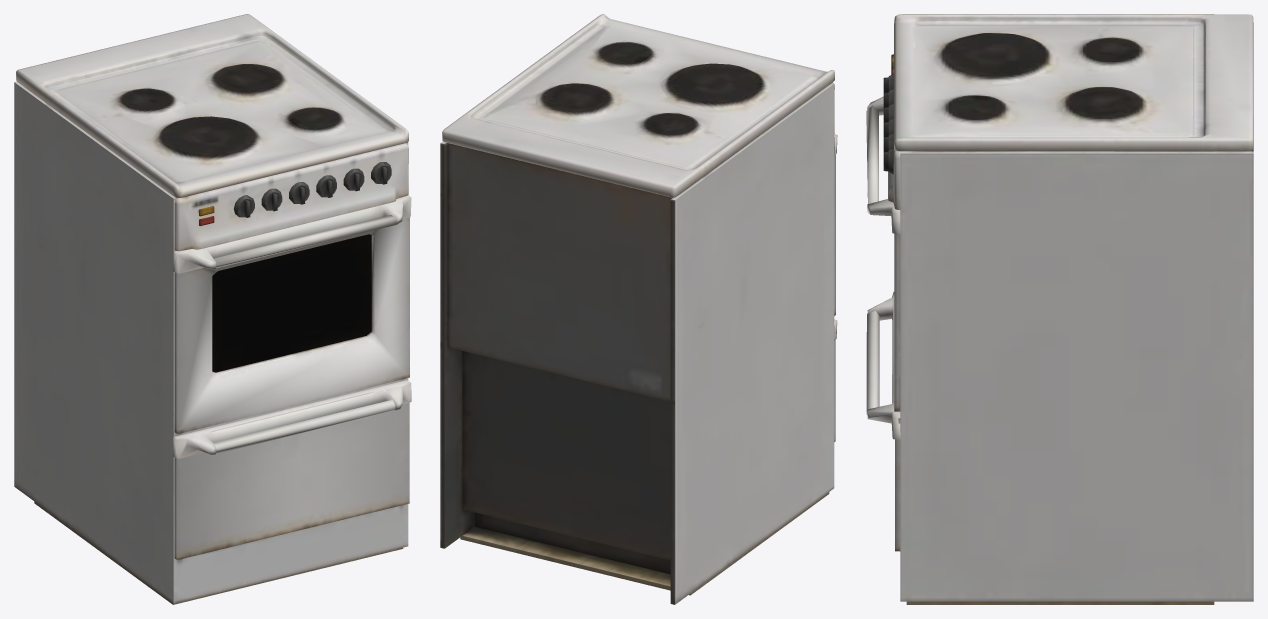
File: electric_stove.55e263bffc.glb
The picture shows the model from 3 angles, left to right: view 1: azimuth 30°, elevation 25°; view 2: azimuth 150°, elevation 25°; view 3: azimuth 270°, elevation 25°; orthographic projection. The views are drawn at different scales.
Visible parts, largest first — view 1: stovetop, door_top, handle_bottom_attachment; view 2: stovetop; view 3: stovetop, handle_bottom_attachment, door_top.
Boxes of the visible parts, x1=… form: stovetop: x1=14, y1=14, x2=408, y2=604; door_top: x1=173, y1=195, x2=411, y2=433; handle_bottom_attachment: x1=173, y1=380, x2=411, y2=559; stovetop: x1=440, y1=14, x2=834, y2=604; stovetop: x1=888, y1=14, x2=1253, y2=604; handle_bottom_attachment: x1=866, y1=292, x2=900, y2=551; door_top: x1=866, y1=96, x2=900, y2=411.
Bounding box in the file's own units: 0.5026 × 0.8586 × 0.6462.
2 materials, 2 textured.
